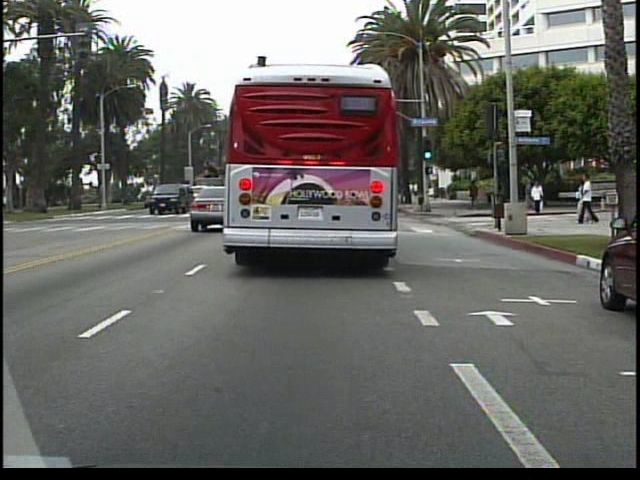person: (577, 168, 598, 225), (528, 178, 547, 216), (465, 174, 482, 214), (519, 177, 536, 211)
